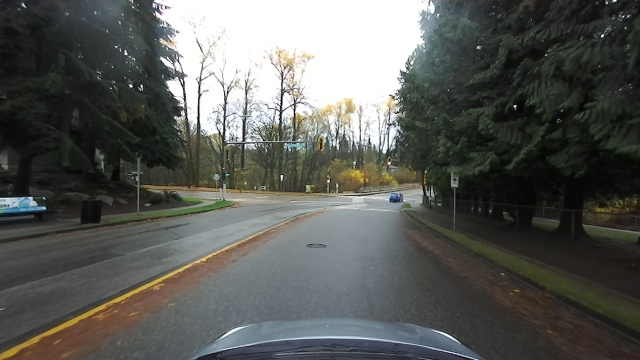car: (388, 191, 406, 203)
